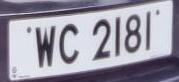1: (141, 7, 155, 57), (112, 12, 124, 62)
2: (90, 15, 113, 66)
8: (123, 10, 143, 59)
C: (56, 18, 83, 71)
W: (32, 19, 60, 74)
